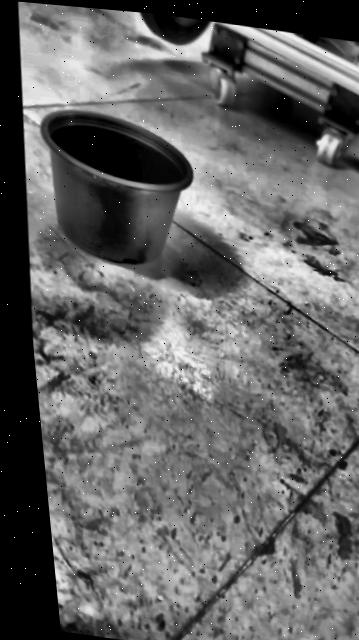pot: (30, 102, 204, 273)
